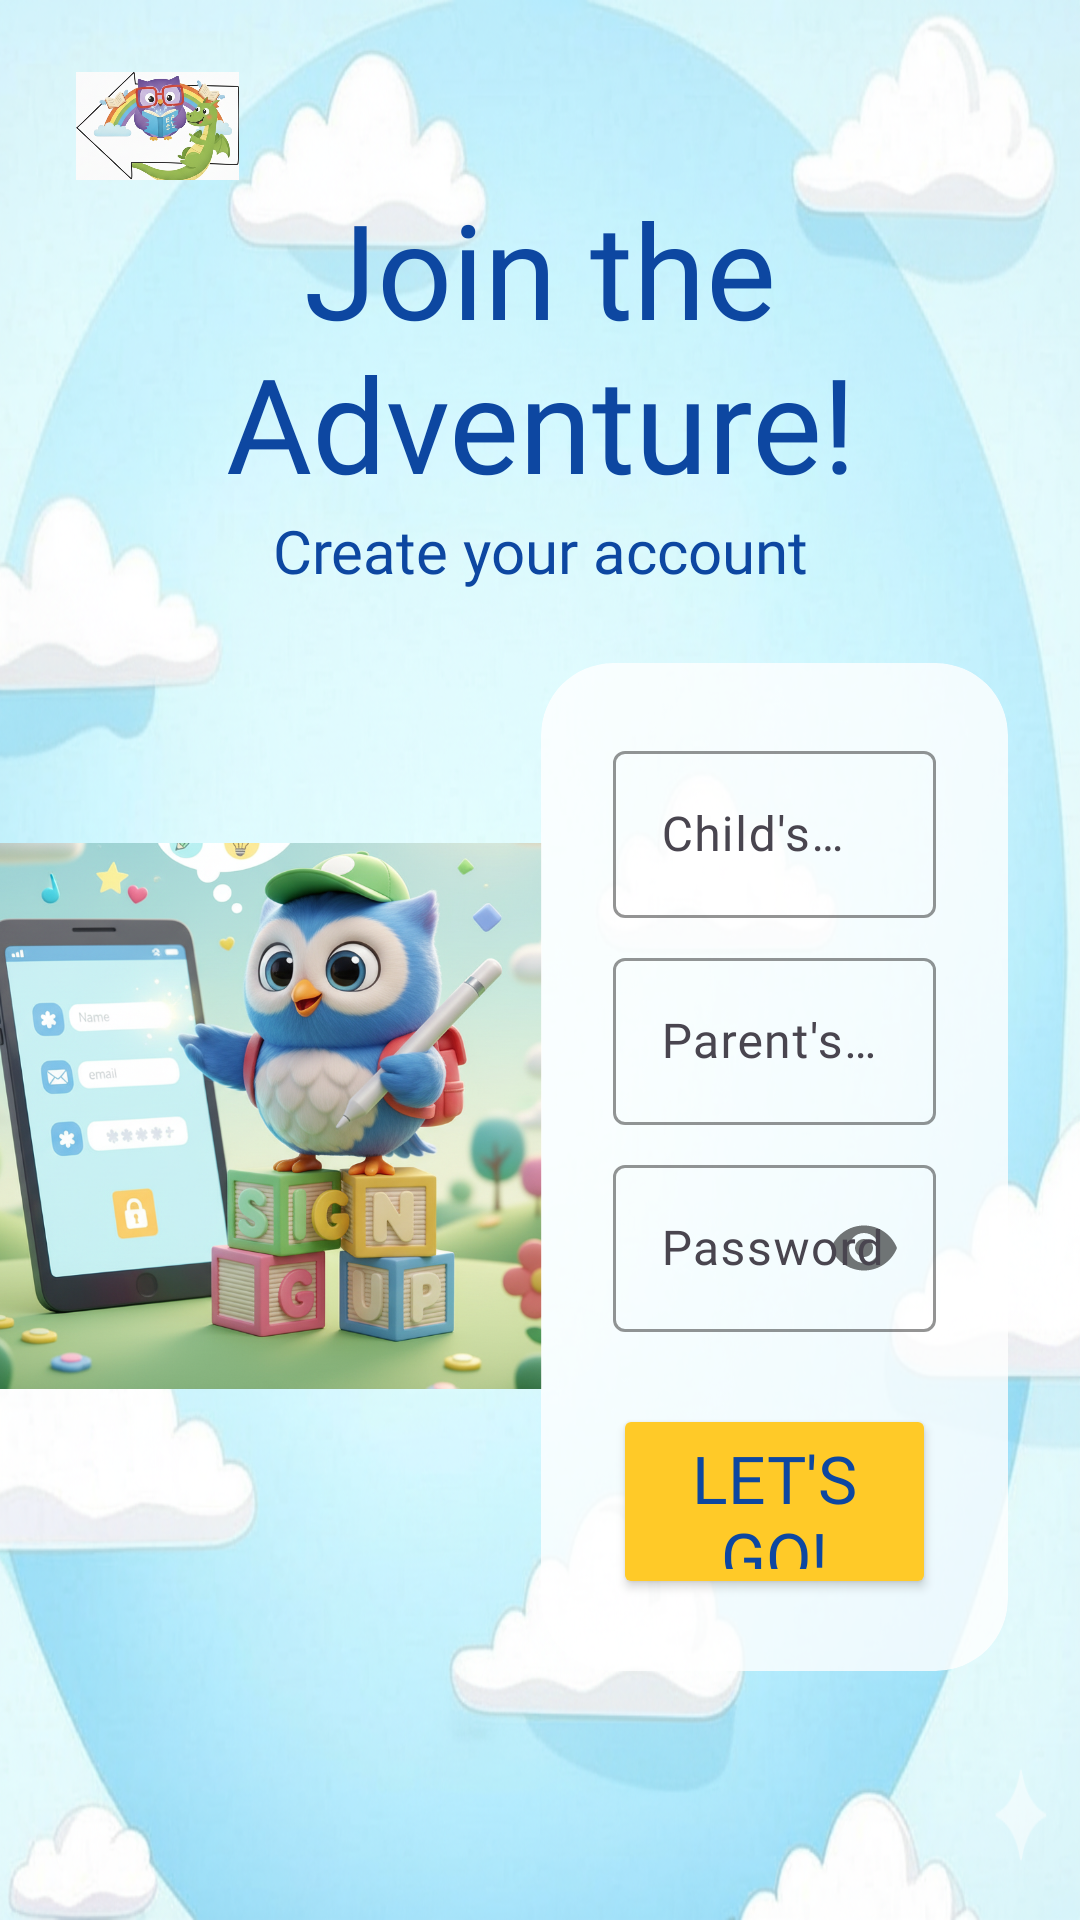

Screen size 1080×1920. Icon name, then its box in pixels as {"left": x1, "top": y1, "right": x2, "bottom": y2}:
backarrow: {"left": 76, "top": 72, "right": 267, "bottom": 204}
